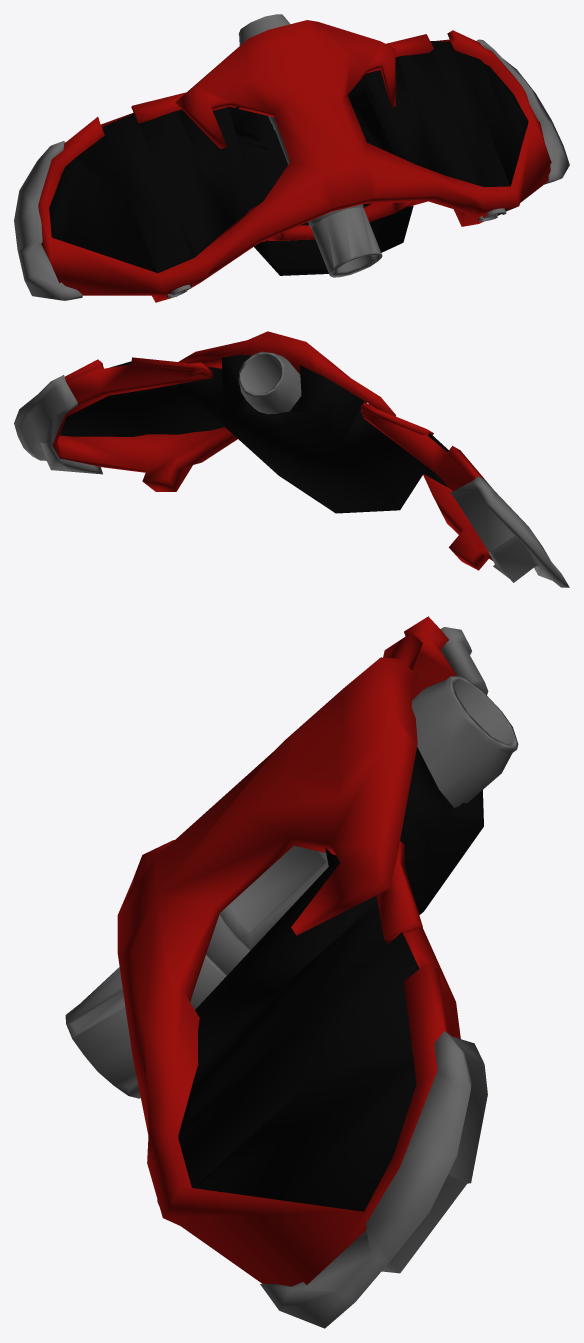
File: miniwebshooter.glb
The picture shows the model from 3 angles, top to bottom: view 1: azimuth 30°, elevation 25°; view 2: azimuth 150°, elevation 25°; view 3: azimuth 270°, elevation 25°; orthographic projection. The views are drawn at different scales.
Parts seen in each view (by area): view 1: Black Inside, Base Red, Metallic Outer, Cylinder Base.001, Cylinder Base; view 2: Black Inside, Base Red, Metallic Outer, Cylinder Base; view 3: Base Red, Black Inside, Metallic Outer, Cylinder Base, Cylinder Base.001.
Boxes of the visible parts, box(x1,y1,x2,y2) form: Black Inside: box(49, 41, 528, 275); Base Red: box(38, 20, 551, 302); Metallic Outer: box(14, 39, 569, 300); Cylinder Base.001: box(312, 207, 382, 277); Cylinder Base: box(238, 14, 363, 228); Black Inside: box(60, 343, 449, 513); Base Red: box(52, 331, 492, 570); Metallic Outer: box(14, 375, 569, 587); Cylinder Base: box(238, 351, 301, 414); Base Red: box(117, 616, 460, 1286); Black Inside: box(178, 706, 483, 1211); Metallic Outer: box(260, 627, 488, 1328); Cylinder Base: box(190, 675, 518, 1009); Cylinder Base.001: box(65, 967, 140, 1098).
Size of the model in its own units: 2.71 by 1.04 by 0.9825.
